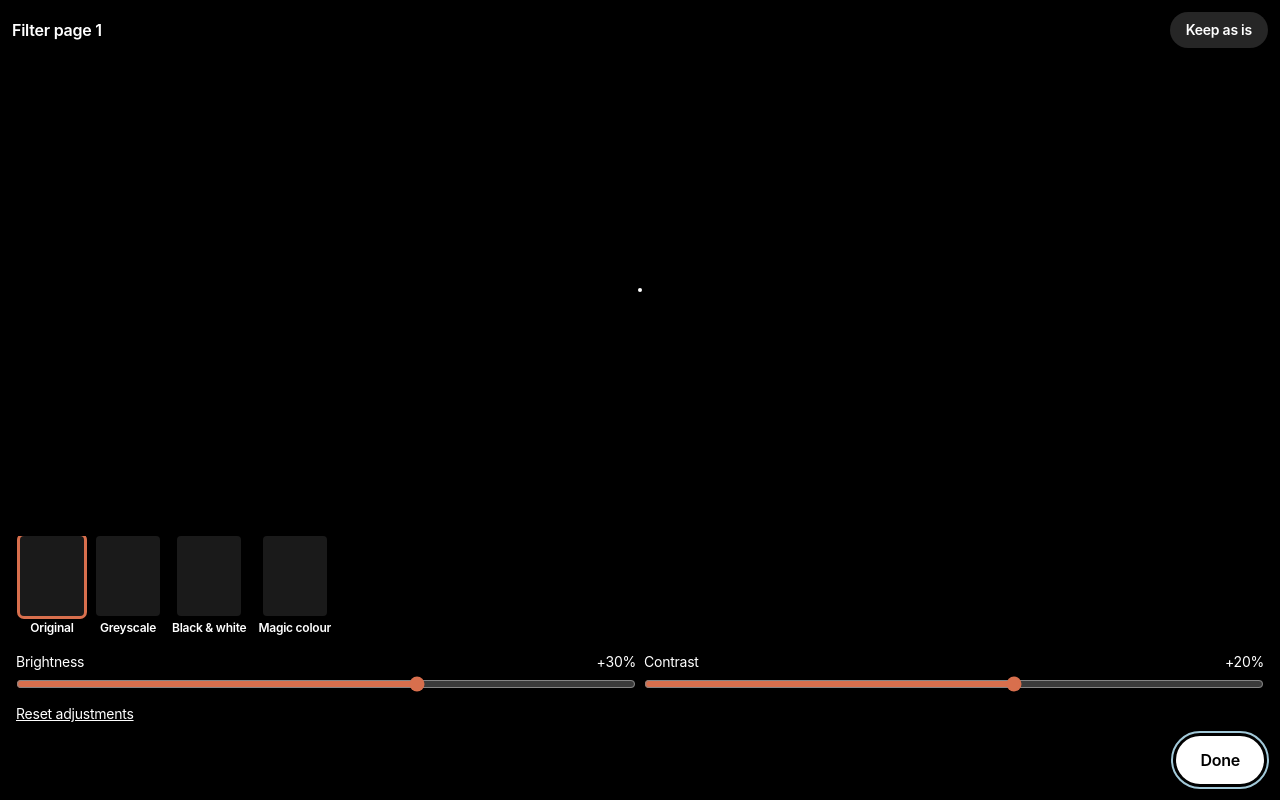
it: FilterEditor › resets both adjustments to zero
Click the button "Reset adjustments": (75, 714) x1=16 y1=704 x2=134 y2=724
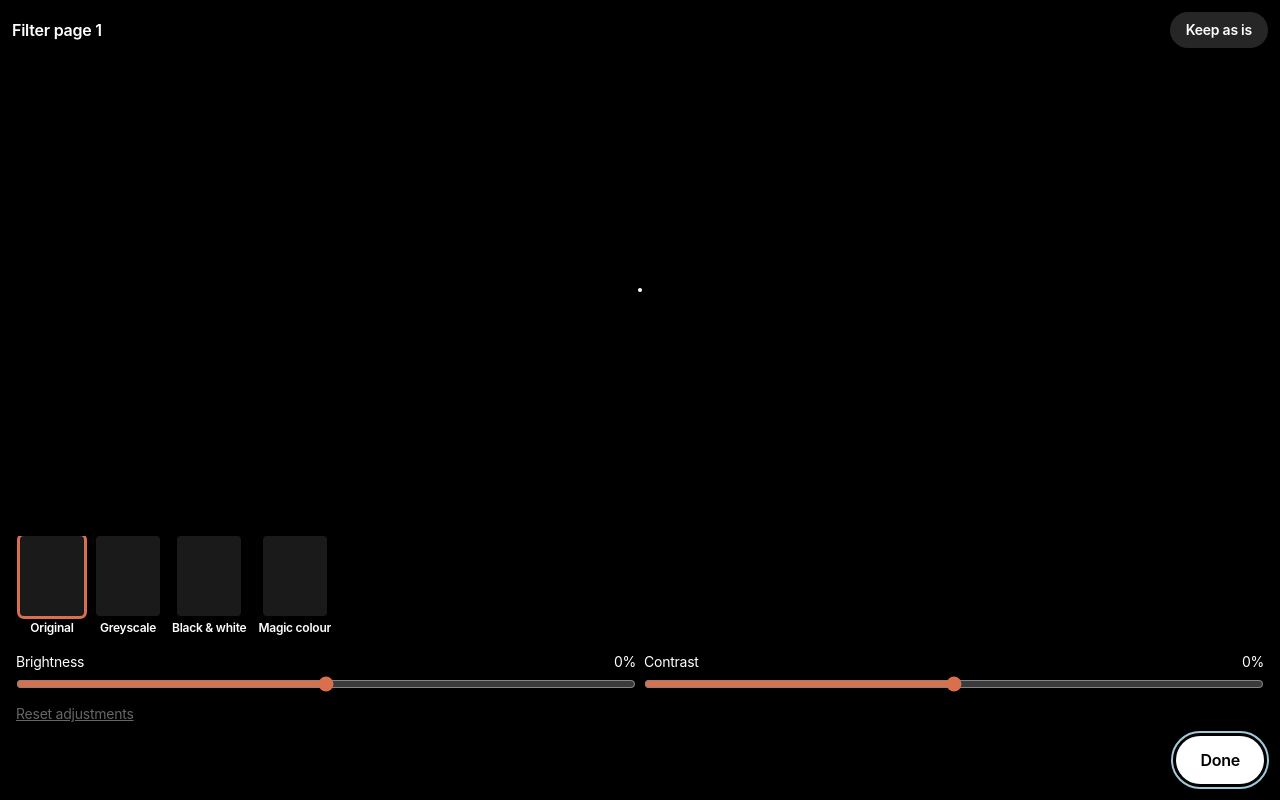
Expected: the slider named "Brightness" holds "0", x1=16 y1=676 x2=636 y2=692
Expected: the slider named "Contrast" holds "0", x1=644 y1=676 x2=1264 y2=692
Expected: the button "Reset adjustments" is disabled, x1=16 y1=704 x2=134 y2=724
